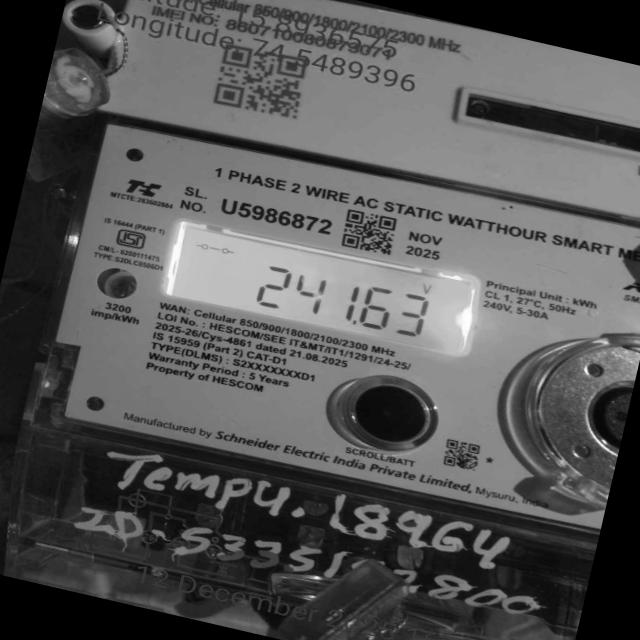meter: (33, 0, 640, 543)
